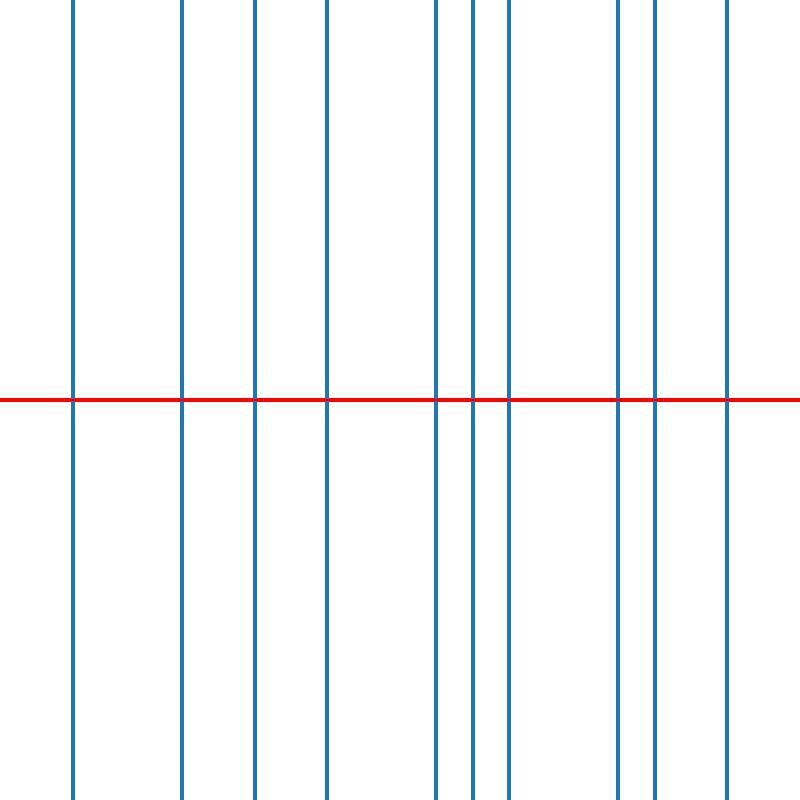root: (432, 396, 440, 404), (250, 396, 258, 404), (650, 396, 658, 404), (505, 396, 512, 404), (614, 396, 621, 404), (723, 396, 730, 404), (69, 396, 76, 404), (323, 396, 330, 404), (178, 396, 185, 404), (469, 396, 476, 404)
